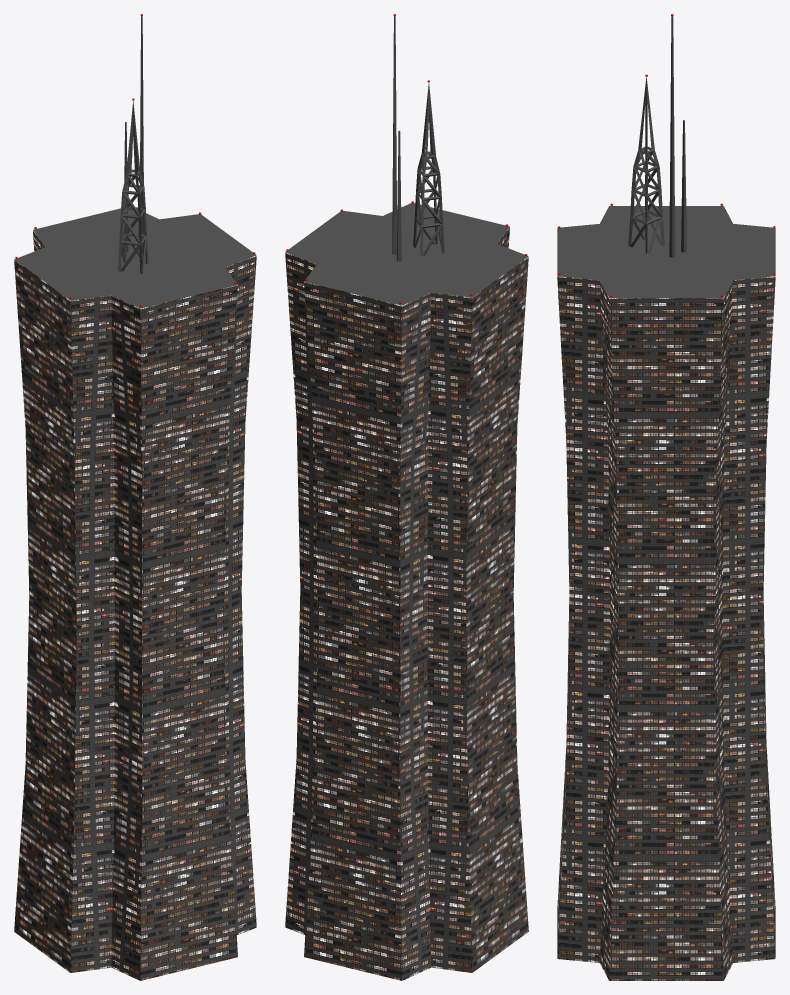
The model's file is Mesh_NeonOffice-Big.fbx.
3 renders of one model, left to right at view 1: azimuth 30°, elevation 25°; view 2: azimuth 150°, elevation 25°; view 3: azimuth 270°, elevation 25°, orthographic.
Parts seen in each view (by area): view 1: Mesh_NeonOffice-Big; view 2: Mesh_NeonOffice-Big; view 3: Mesh_NeonOffice-Big.
Part boxes in pixels (x1=…): Mesh_NeonOffice-Big: x1=14, y1=14, x2=256, y2=980; Mesh_NeonOffice-Big: x1=285, y1=14, x2=528, y2=980; Mesh_NeonOffice-Big: x1=557, y1=14, x2=775, y2=980.
Size of the model in its own units: 52.78 by 247 by 52.78.
